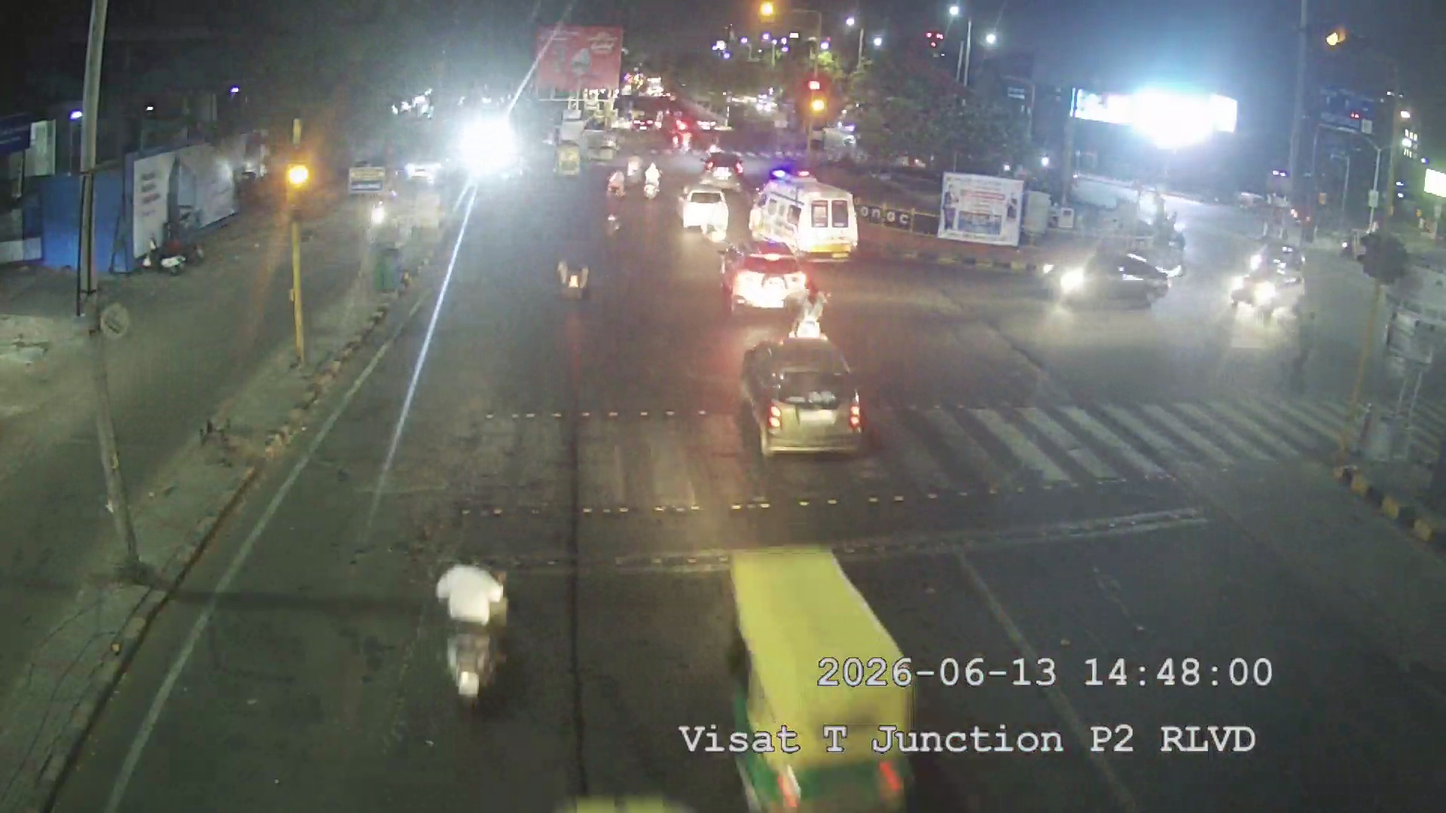auto_rickshaw: (710, 535, 913, 767), (734, 333, 866, 453), (347, 161, 388, 196), (553, 142, 584, 176)
car: (724, 237, 811, 312), (679, 181, 730, 232)
truck: (752, 183, 862, 258)
two_wheeler: (406, 547, 530, 713), (551, 247, 594, 307), (600, 198, 627, 244), (603, 162, 627, 212), (640, 156, 664, 201), (605, 161, 630, 201)
